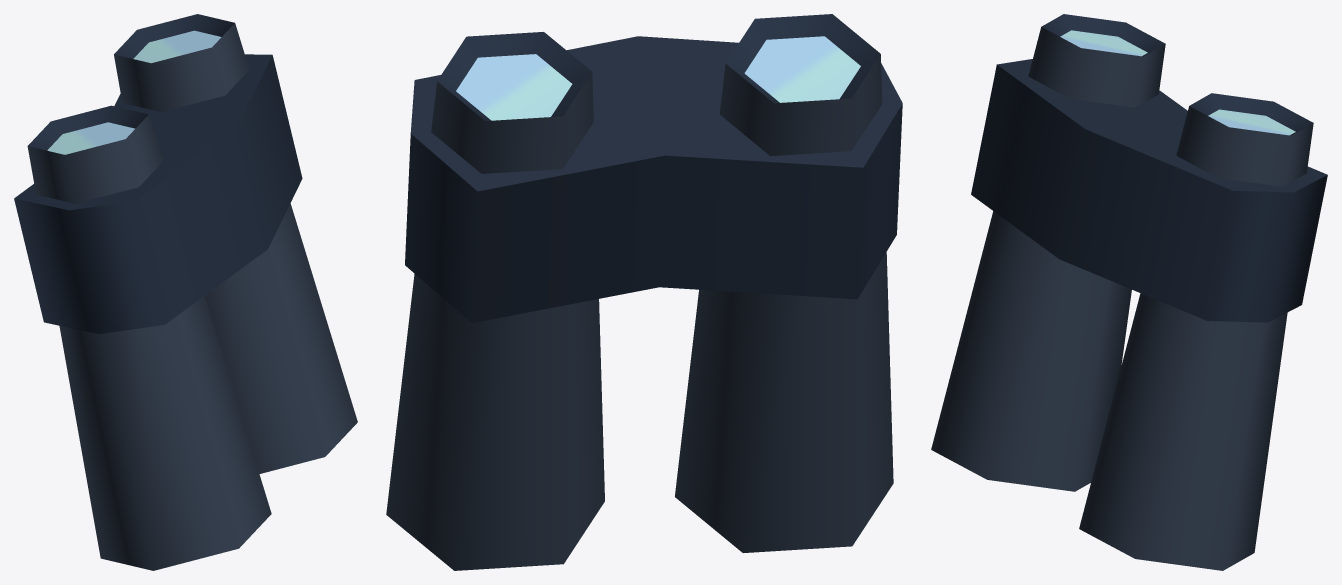
File: Telescope.fbx
The picture shows the model from 3 angles, left to right: view 1: azimuth 30°, elevation 25°; view 2: azimuth 150°, elevation 25°; view 3: azimuth 270°, elevation 25°; orthographic projection. The views are drawn at different scales.
Parts seen in each view (by area): view 1: Telescope_mesh; view 2: Telescope_mesh; view 3: Telescope_mesh.
Boxes of the visible parts, x1,y1,x2,y2 form: Telescope_mesh: (14, 14, 357, 570); Telescope_mesh: (386, 14, 902, 570); Telescope_mesh: (931, 14, 1327, 570).
Bounding box in the file's own units: 12.25 × 14.12 × 11.88.
